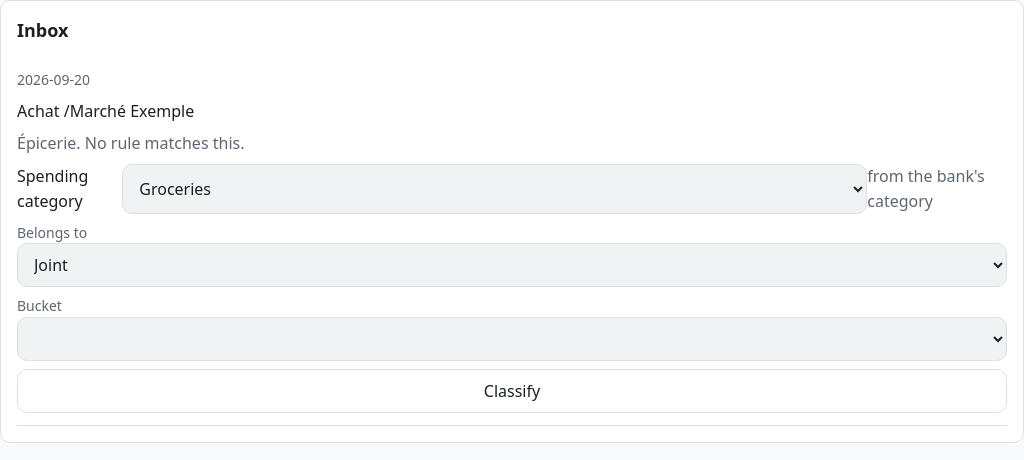
Scenario: choosing another writes the row's own, and the row stays in the inbox
Expected: the list item "Achat /Marché Exemple" is shown, x1=17 y1=100 x2=194 y2=122
Select "Pharmacy" in the dropdown named "Spending category for Achat /Marché Exemple" at (495, 189), box x1=122 y1=164 x2=867 y2=214
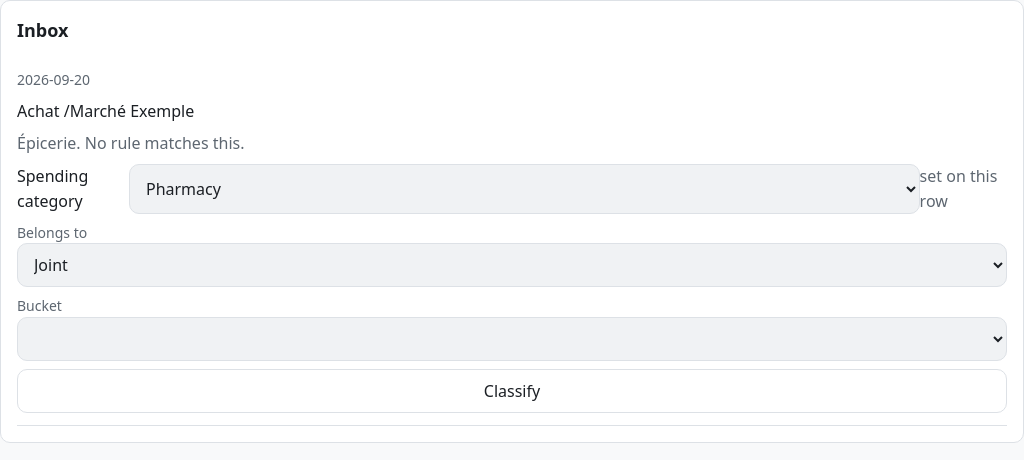
Result: the text "set on this row" is shown at x1=920 y1=164 x2=1007 y2=214
